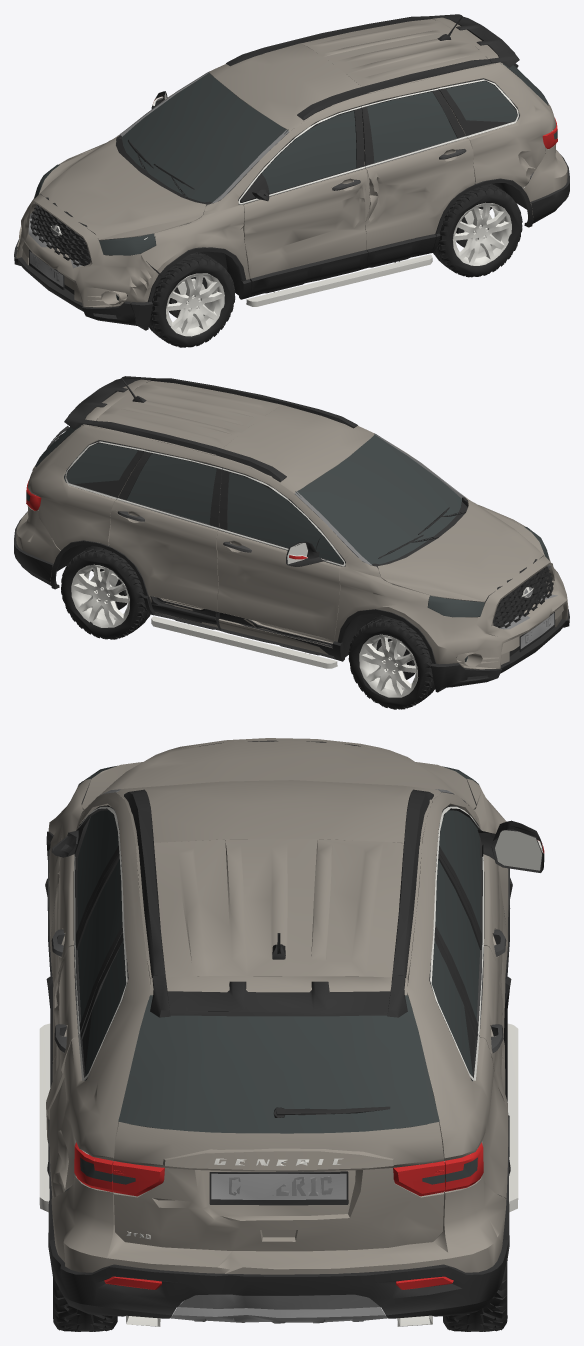
Rendered from suv_damaged.glb.
3 views of the same model, one above another, from view 1: azimuth 30°, elevation 25°; view 2: azimuth 150°, elevation 25°; view 3: azimuth 270°, elevation 25° (orthographic). The views are drawn at different scales.
Visible parts, largest first — view 1: Body, DoorFL, DoorRL; view 2: Body, DoorFR, DoorRR; view 3: Body, DoorFR, DoorRL, DoorRR, DoorFL.
Boxes of the visible parts, <box> form: Body: <box>14,14,569,347</box>; DoorFL: <box>238,105,368,297</box>; DoorRL: <box>361,88,474,268</box>; Body: <box>14,376,569,709</box>; DoorFR: <box>215,467,345,659</box>; DoorRR: <box>109,450,222,630</box>; Body: <box>39,738,518,1331</box>; DoorFR: <box>437,805,544,1100</box>; DoorRL: <box>46,851,124,1166</box>; DoorRR: <box>433,850,510,1166</box>; DoorFL: <box>48,805,120,1087</box>.
Size of the model in its own units: 4.52 by 1.86 by 2.
